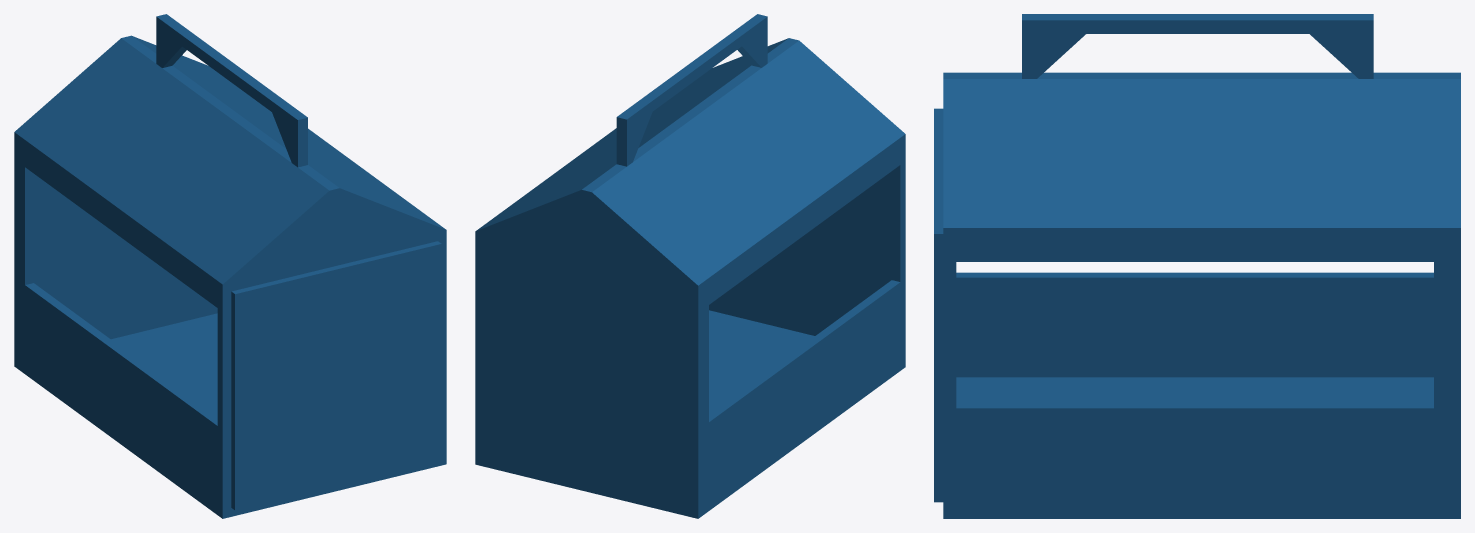
File: PetContainer.fbx
3 renders of one model, left to right at view 1: azimuth 30°, elevation 25°; view 2: azimuth 150°, elevation 25°; view 3: azimuth 270°, elevation 25°, orthographic. The views are drawn at different scales.
Parts seen in each view (by area): view 1: PetContainer, PetContainerDoor; view 2: PetContainer, PetContainerDoor; view 3: PetContainer, PetContainerDoor.
Boxes of the visible parts, <box> form: PetContainer: <box>14,14,446,518</box>; PetContainerDoor: <box>231,241,441,510</box>; PetContainer: <box>475,14,905,518</box>; PetContainerDoor: <box>709,171,891,335</box>; PetContainer: <box>943,14,1460,518</box>; PetContainerDoor: <box>934,108,943,502</box>.
Size of the model in its own units: 30.26 by 45.14 by 49.64.
Materials: 1 (1 with a texture image).
